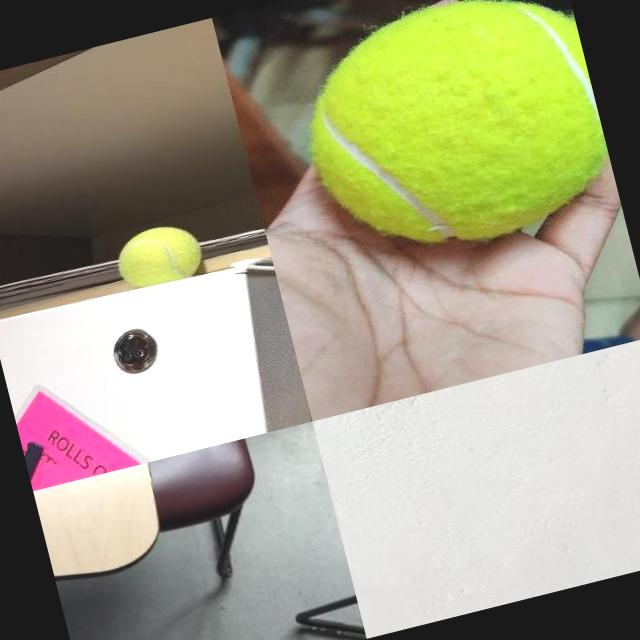tennis-ball: (284, 0, 620, 276), (110, 217, 206, 290)
